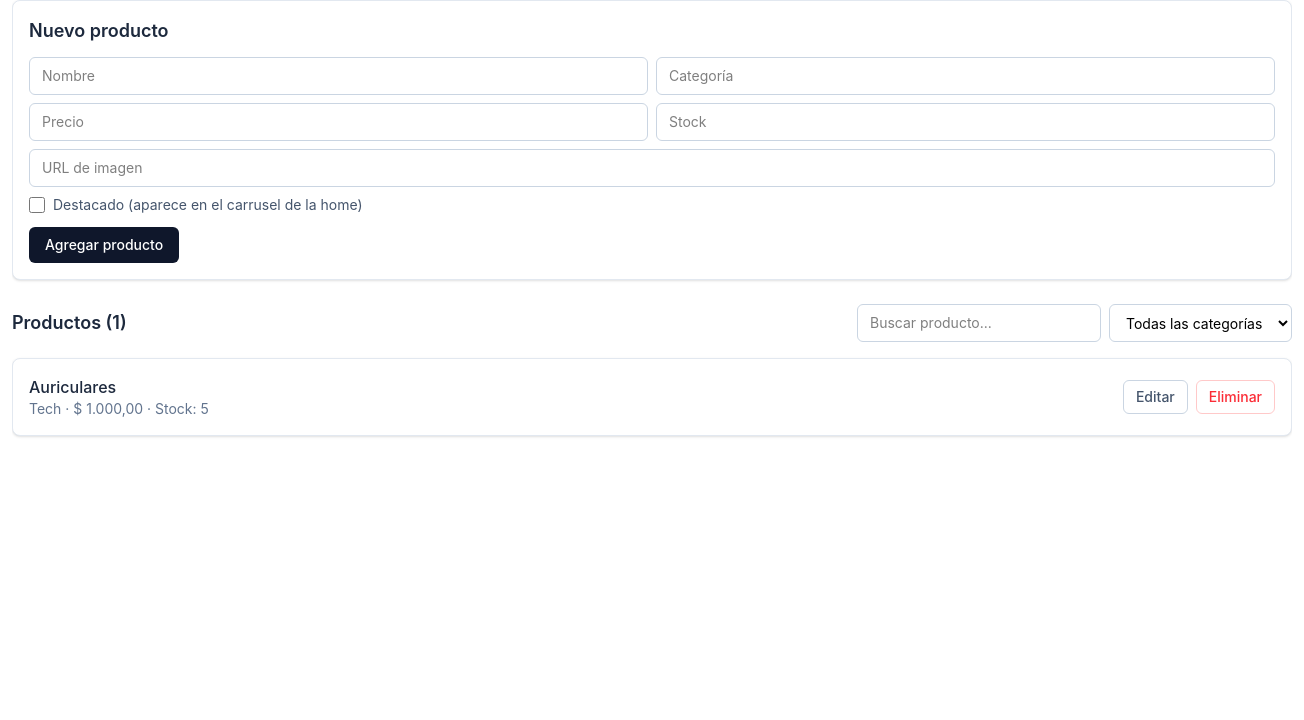
Test: AdminProducts › avisa cuando un producto se queda sin stock tras editar
Click the button "Editar": {"x": 1155, "y": 397} [1123, 380, 1188, 414]
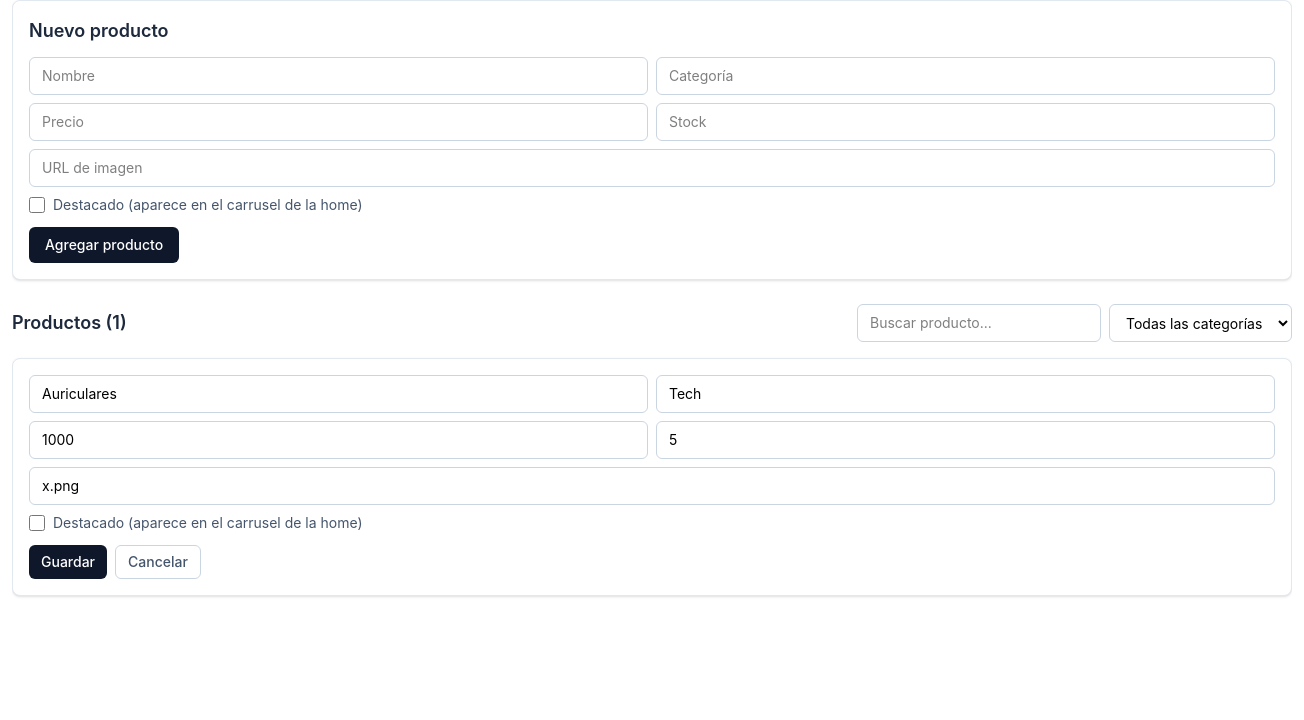
Replace the text in the 2nd number field showing "5" with "0": {"x": 966, "y": 440} [656, 421, 1275, 459]
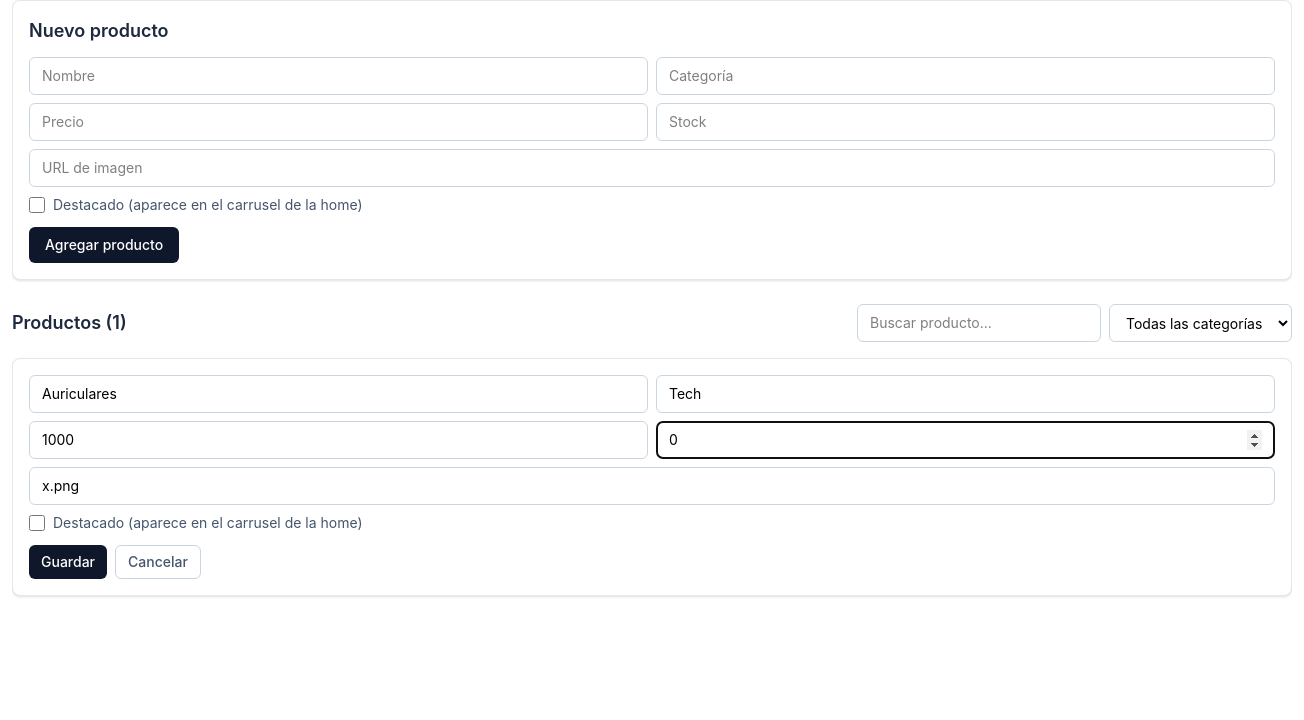
Click the button "Guardar": {"x": 68, "y": 562} [29, 545, 107, 579]
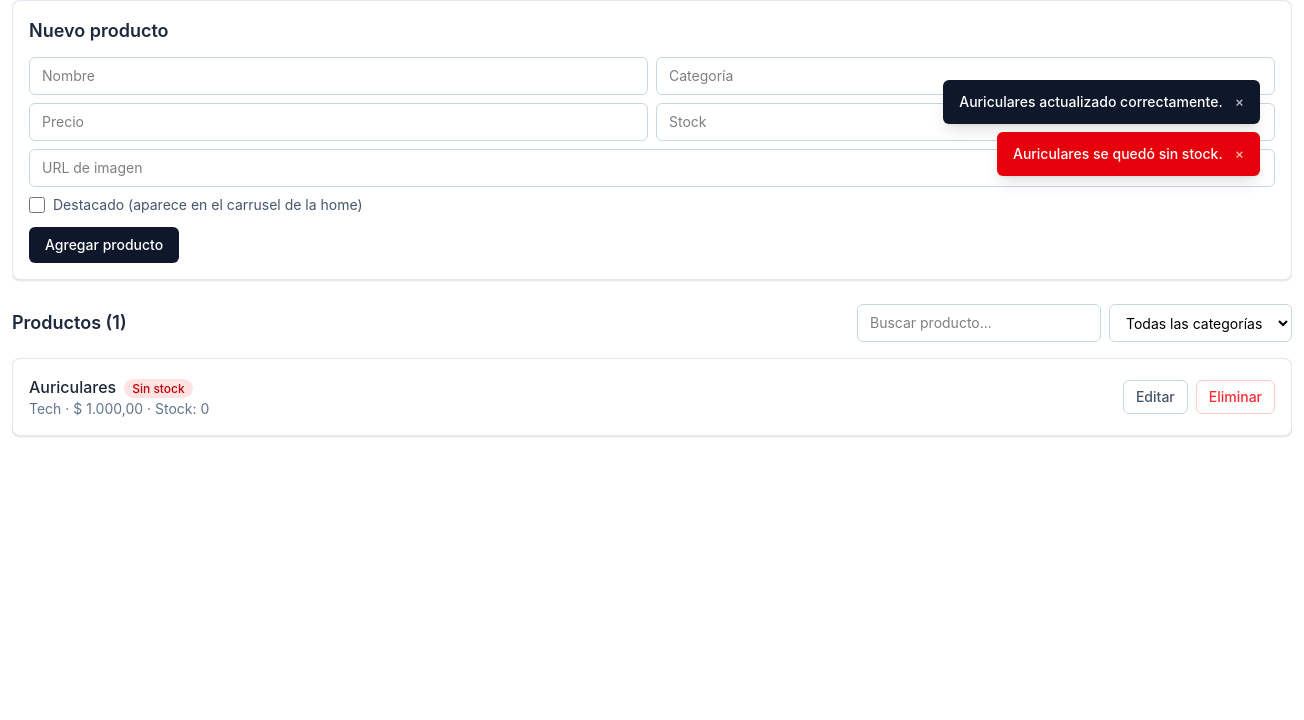
Check: the text "Auriculares se quedó sin stock." is shown, box [1013, 144, 1223, 164]
